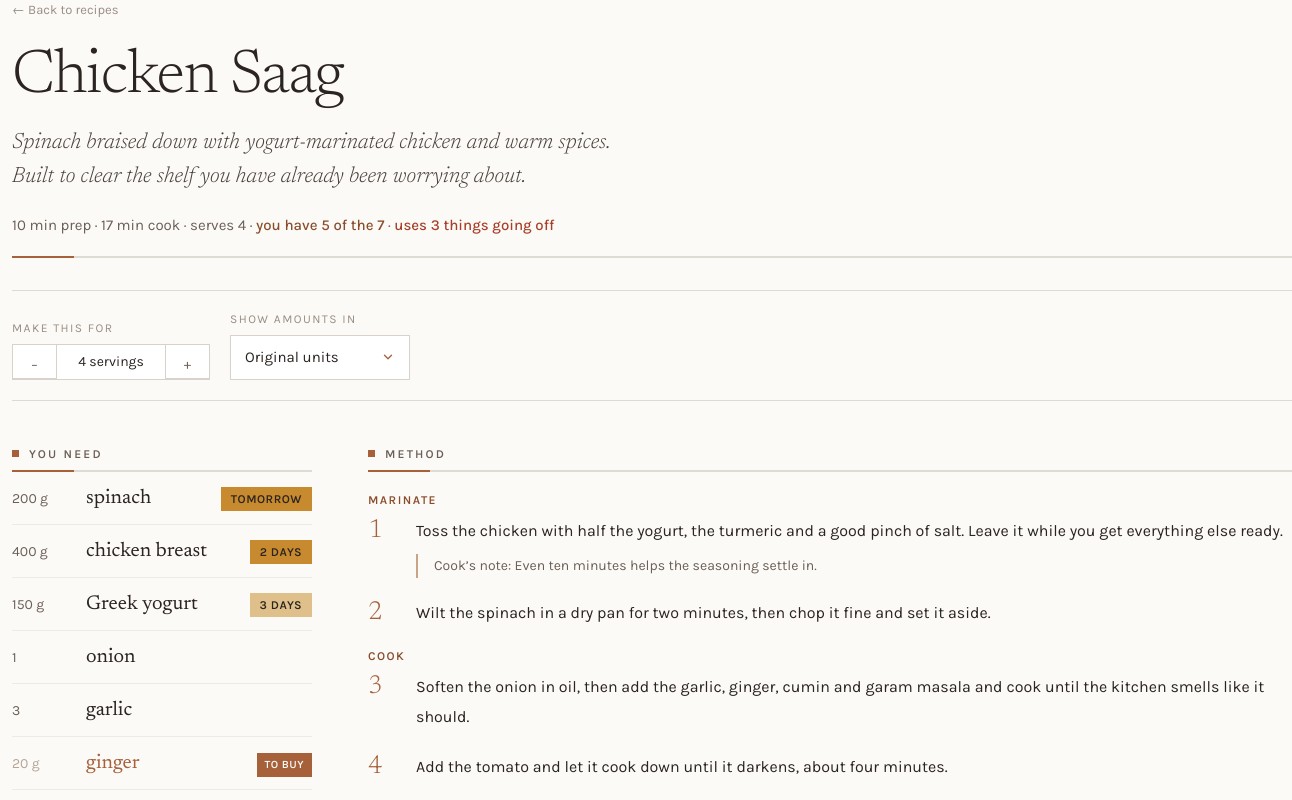
Test: RecipeDetailPage › shows the Chicken Saag acceptance state and deduplicates Add Missing
The image size is (1292, 800).
expect the text "you have 5 of the 7" is shown: met, box x1=256 y1=216 x2=384 y2=234
expect the text "uses 3 things going off" is shown: met, box x1=394 y1=216 x2=554 y2=234
Click the button named "Increase servings" at point(187, 362), box x1=165 y1=344 x2=209 y2=378
(page scrolled)
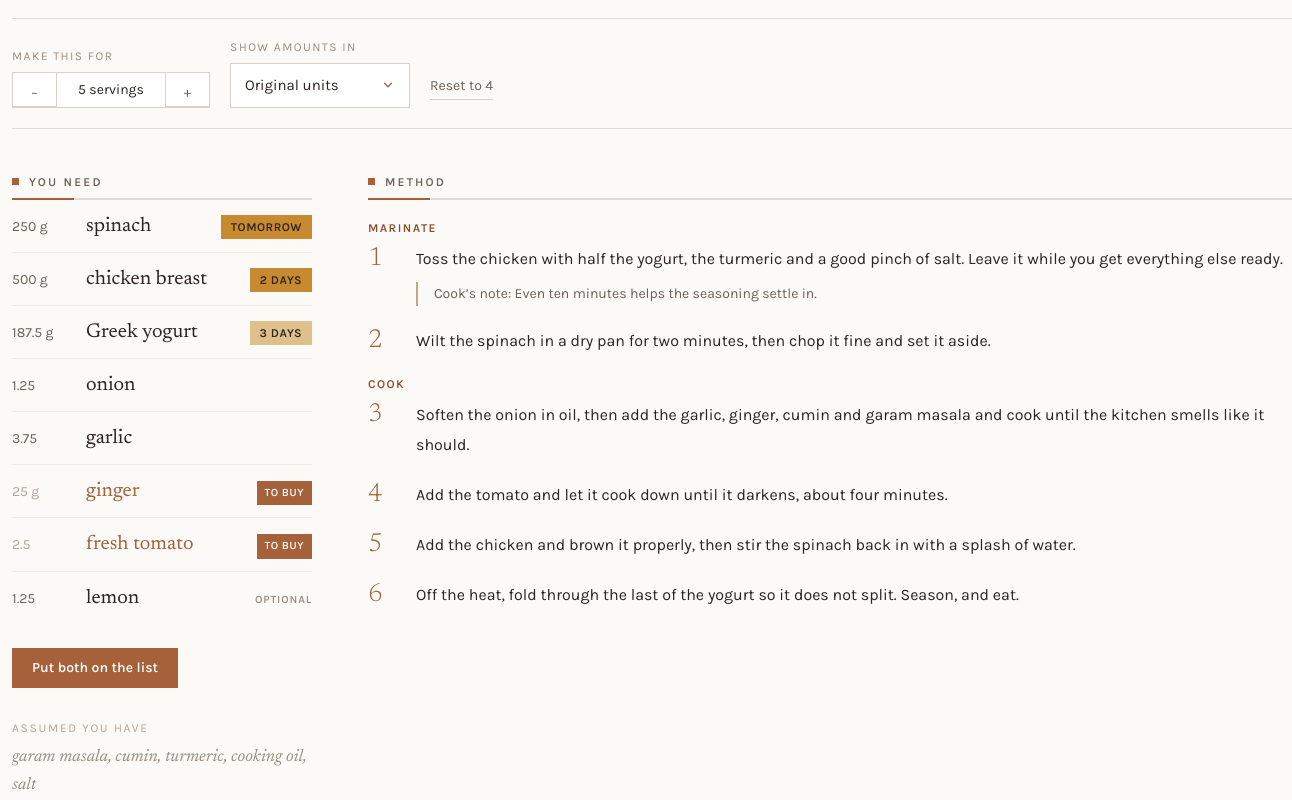
expect the text "5 servings" is shown: met, box x1=78 y1=80 x2=144 y2=98
expect the text "500 g" is shown: met, box x1=12 y1=270 x2=48 y2=288
Click the button "Put both on the list" at point(95, 668), box x1=12 y1=648 x2=178 y2=688
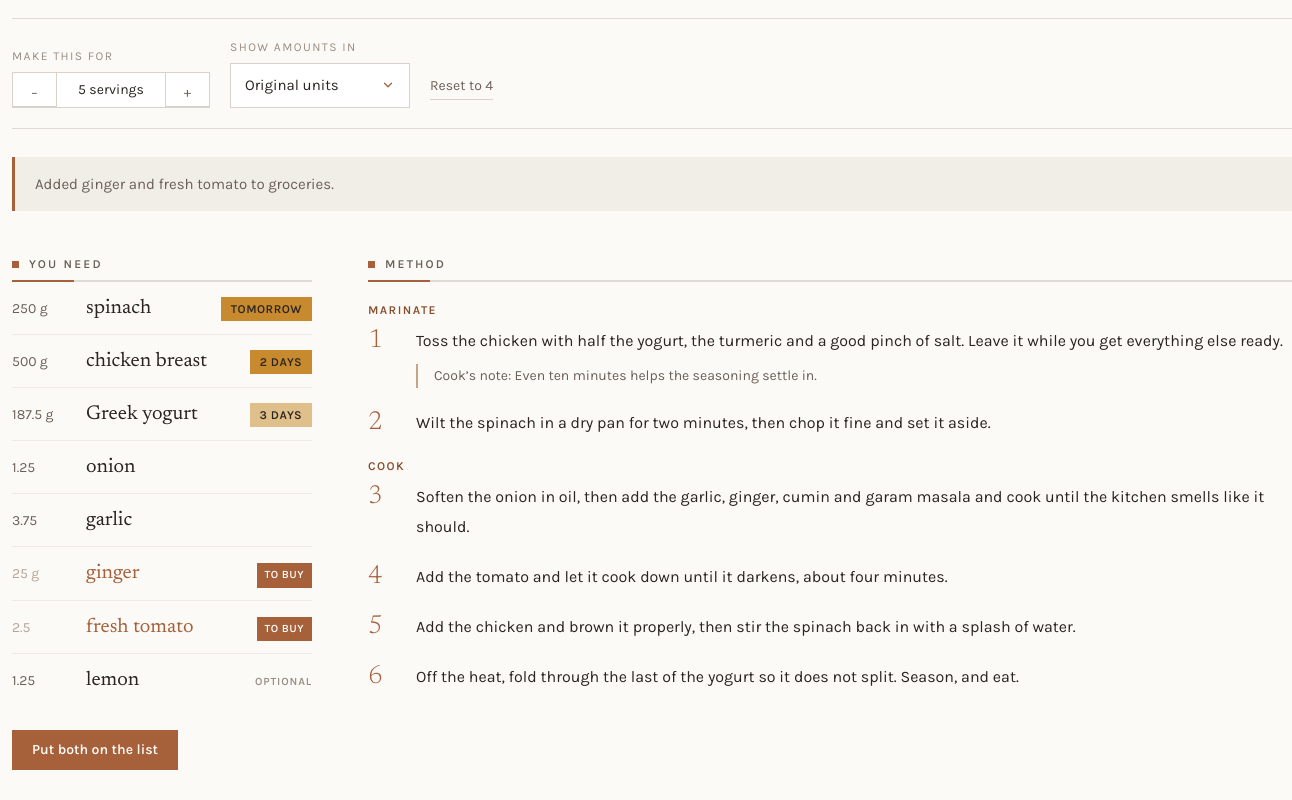
expect the text "Added ginger and fresh tomato to groceries." is shown: met, box x1=12 y1=156 x2=1291 y2=211
Click the button "Put both on the list" at point(95, 750), box x1=12 y1=730 x2=178 y2=770
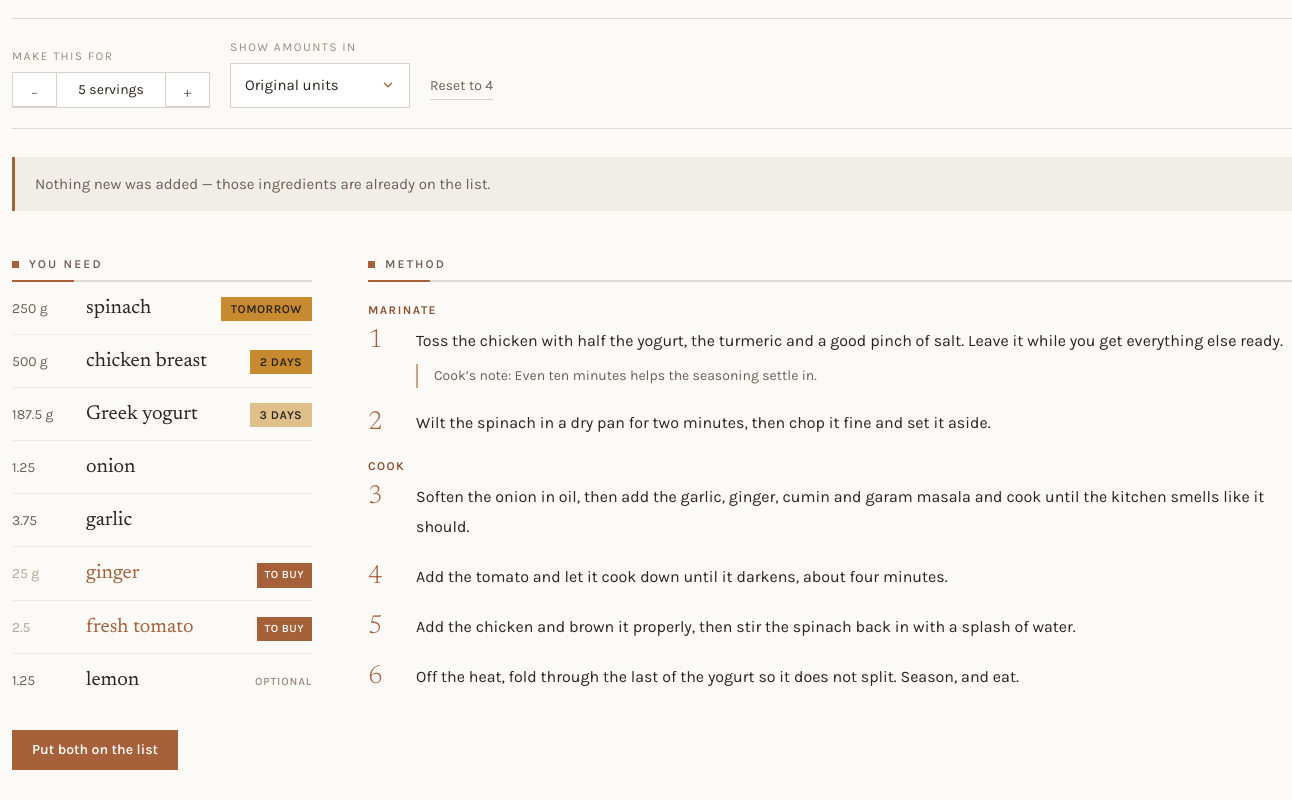
expect the text "already on the list" is shown: met, box x1=35 y1=174 x2=490 y2=192
